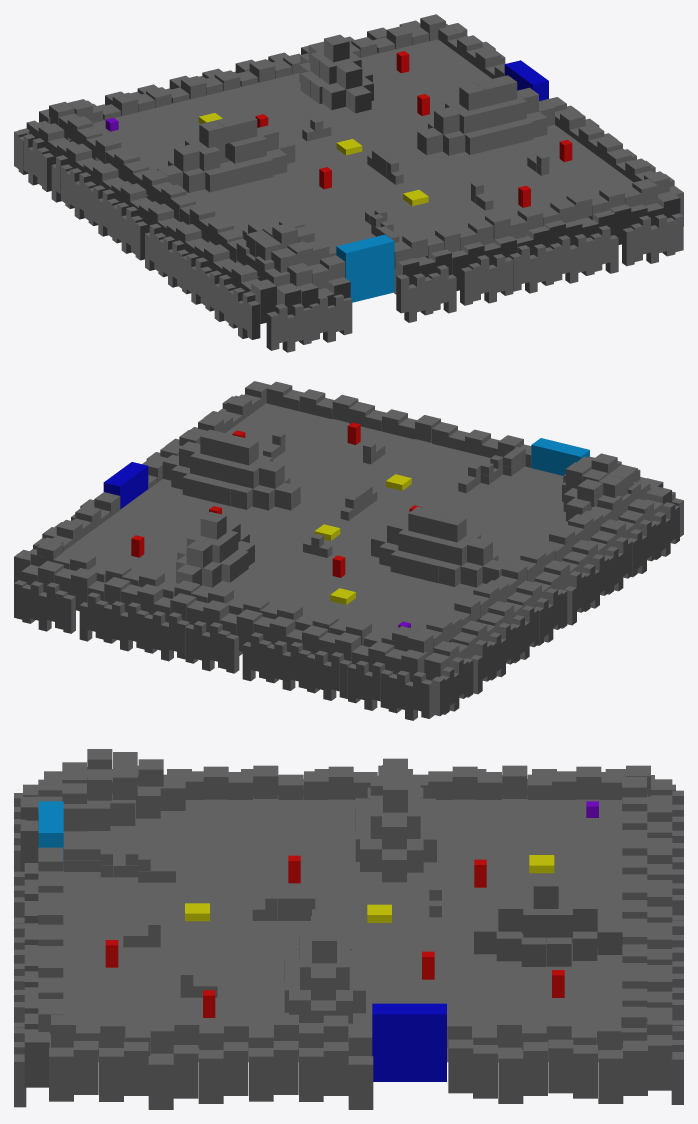
File: Level1_b8.fbx
The picture shows the model from 3 angles, top to bottom: view 1: azimuth 30°, elevation 25°; view 2: azimuth 150°, elevation 25°; view 3: azimuth 270°, elevation 25°; orthographic projection. The views are drawn at different scales.
Visible parts, largest first — view 1: pCube396, pCube401, pCube402; view 2: pCube396, pCube401, pCube402; view 3: pCube396, pCube402, pCube401.
Boxes of the visible parts, x1=… form: pCube396: x1=14, y1=14, x2=683, y2=352; pCube401: x1=336, y1=234, x2=394, y2=302; pCube402: x1=504, y1=60, x2=548, y2=100; pCube396: x1=14, y1=381, x2=683, y2=720; pCube401: x1=531, y1=438, x2=589, y2=475; pCube402: x1=103, y1=462, x2=148, y2=509; pCube396: x1=14, y1=749, x2=683, y2=1109; pCube402: x1=372, y1=1003, x2=446, y2=1081; pCube401: x1=38, y1=801, x2=63, y2=863.
Size of the model in its own units: 20.98 by 4.85 by 21.17.
